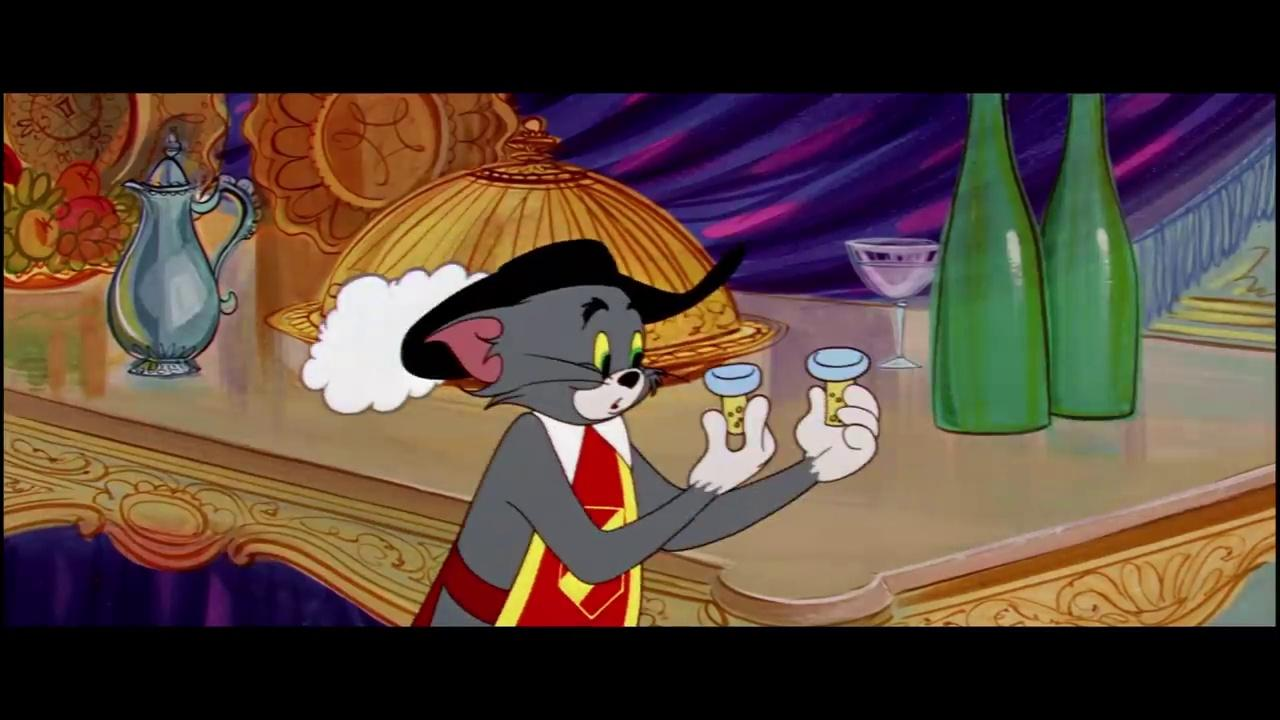Tom: (417, 282, 882, 625)
